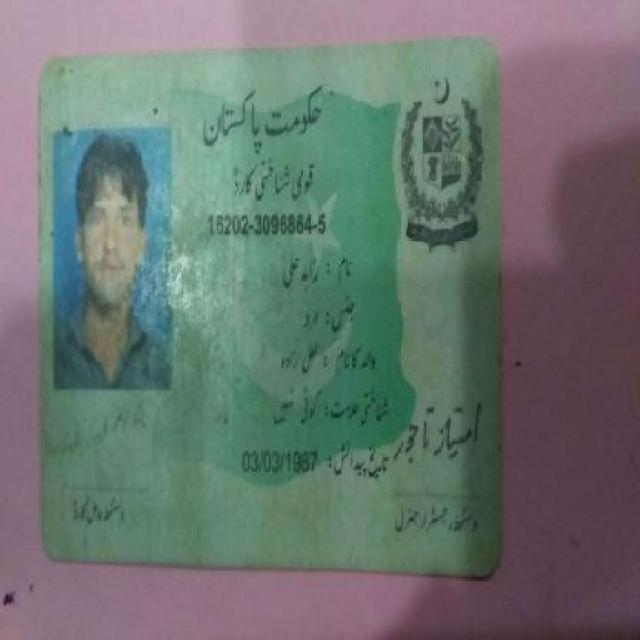Front: (32, 43, 506, 585)
